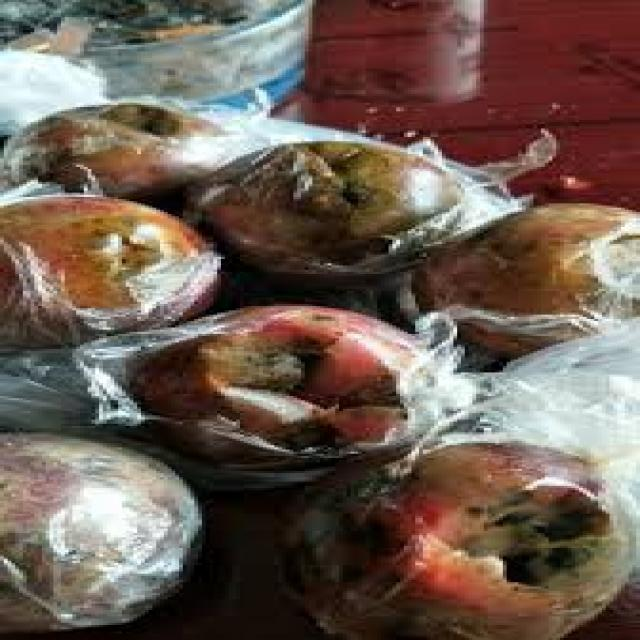organic waste: (271, 434, 636, 638), (103, 298, 438, 467), (179, 139, 461, 285), (0, 424, 198, 629), (408, 199, 636, 362), (0, 190, 221, 344), (4, 103, 240, 195)
